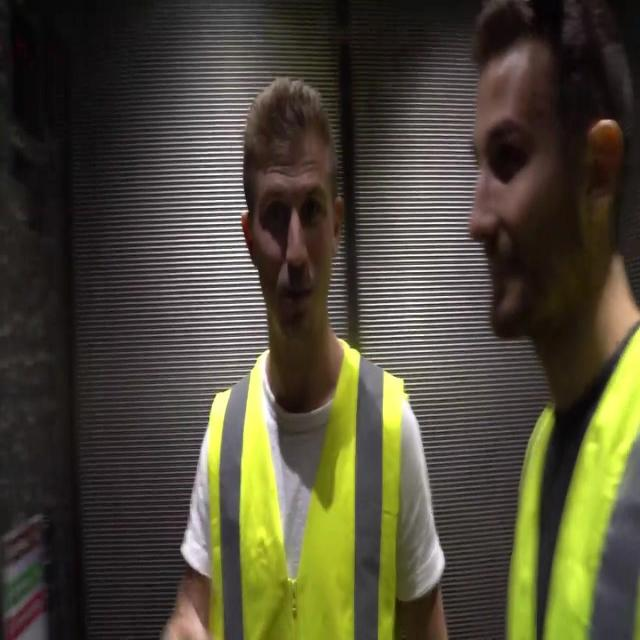Vest: (207, 330, 406, 638), (505, 319, 639, 639)
